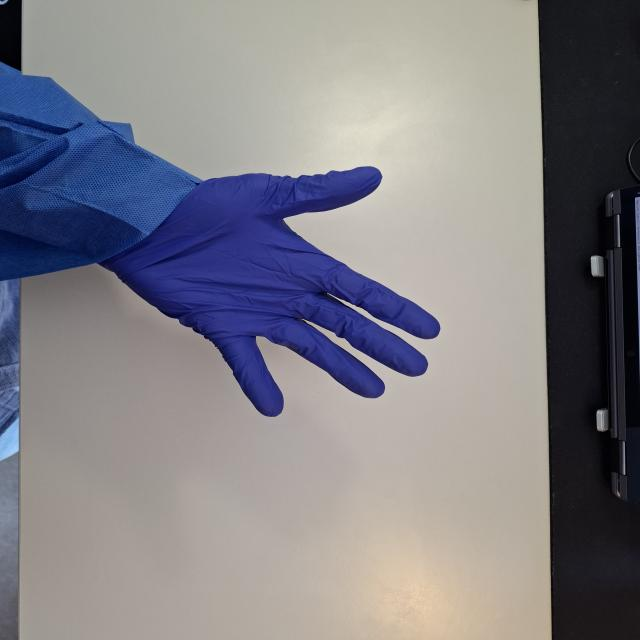glove_on: (95, 164, 444, 418)
